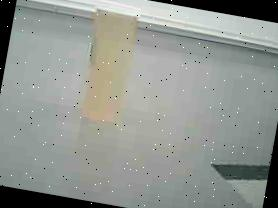Bottle A: (64, 0, 157, 135)
